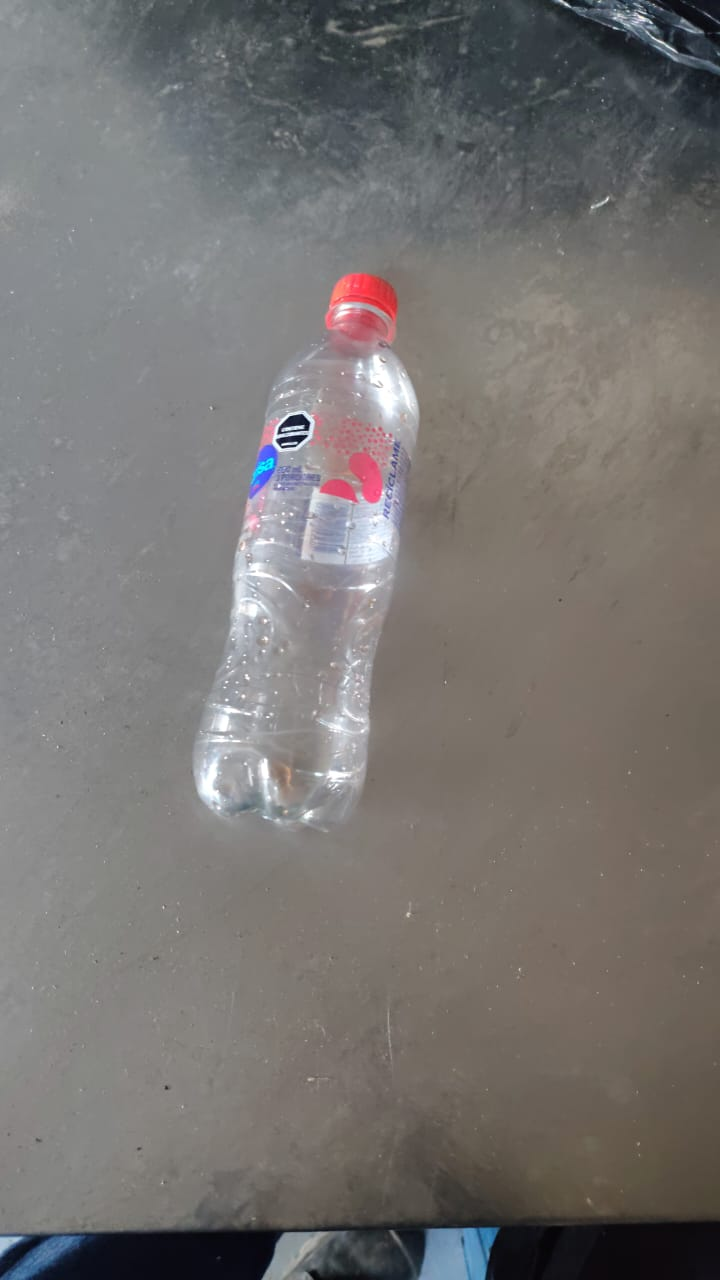Plastico: (189, 271, 420, 834)
